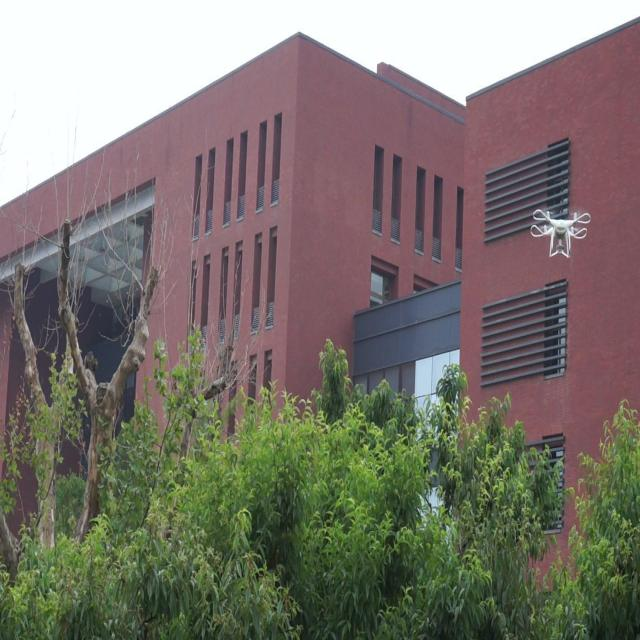UAV: (530, 208, 591, 258)
